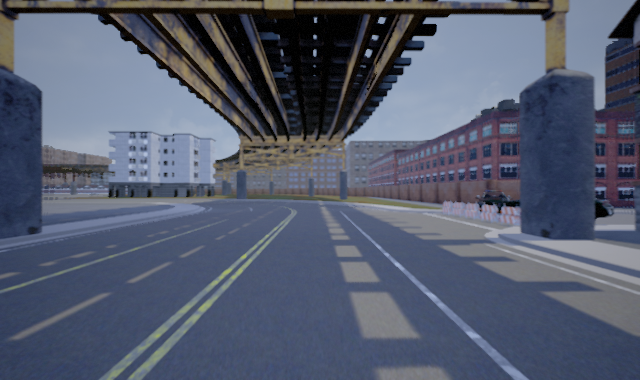vehicle: (474, 189, 513, 210)
